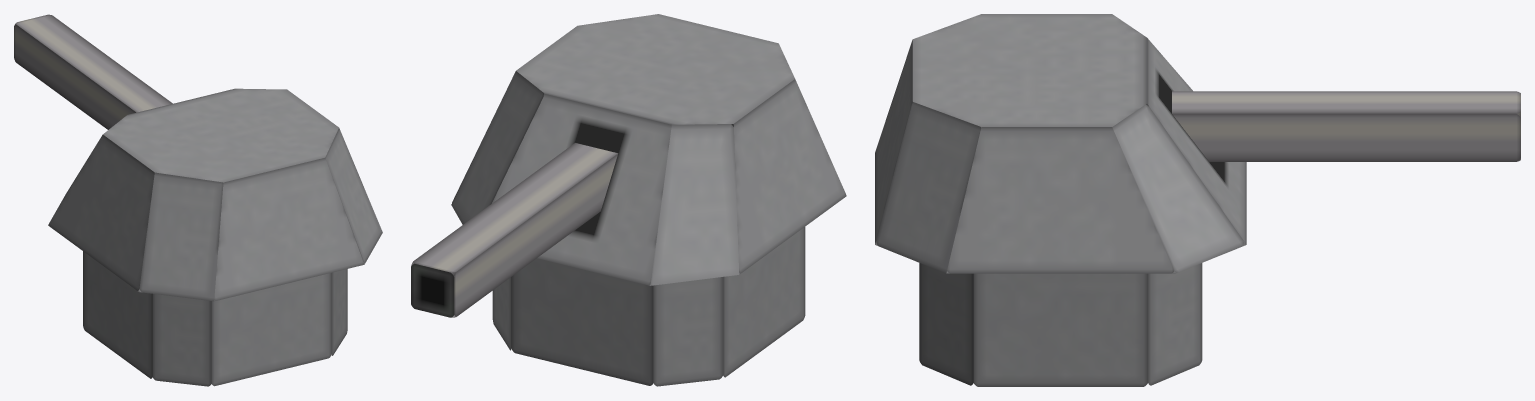
File: naval_gun.obj
3 renders of one model, left to right at view 1: azimuth 30°, elevation 25°; view 2: azimuth 150°, elevation 25°; view 3: azimuth 270°, elevation 25°, orthographic. The views are drawn at different scales.
Parts seen in each view (by area): view 1: cylinder1, cylinder, cube; view 2: cylinder1, cylinder, cube; view 3: cylinder1, cylinder, cube.
Part boxes in pixels (<box>): cylinder1: <box>48,88,382,301</box>; cylinder: <box>83,251,347,386</box>; cube: <box>14,14,172,129</box>; cylinder1: <box>451,14,846,285</box>; cylinder: <box>492,227,805,386</box>; cube: <box>411,143,618,317</box>; cylinder1: <box>875,14,1246,273</box>; cylinder: <box>919,263,1202,386</box>; cube: <box>1172,91,1520,161</box>.
Bounding box in the file's own units: 2.5 × 2 × 4.56.
